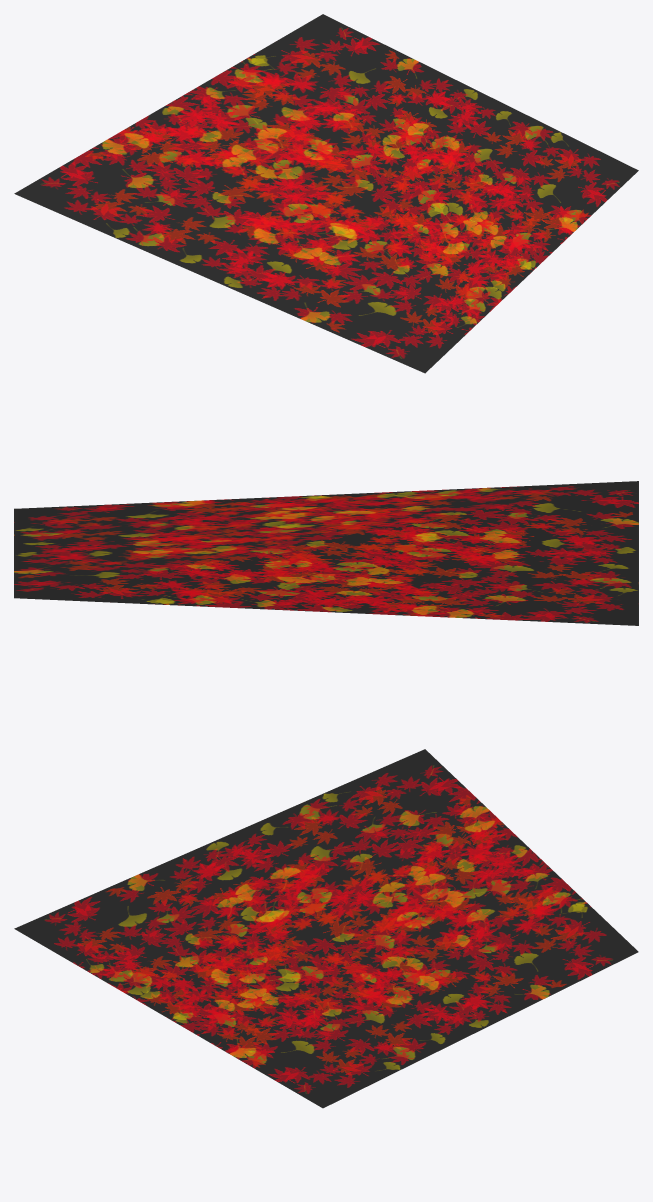
Rendered from OBJ_CourseAki_CurveFloor_3_33.fbx.
3 renders of one model, top to bottom at view 1: azimuth 30°, elevation 25°; view 2: azimuth 150°, elevation 25°; view 3: azimuth 270°, elevation 25°, orthographic. The views are drawn at different scales.
Parts seen in each view (by area): view 1: polySurface242; view 2: polySurface242; view 3: polySurface242.
Boxes of the visible parts, left/top/right/bottom form: polySurface242: left=14, top=14, right=638, bottom=373; polySurface242: left=14, top=481, right=638, bottom=625; polySurface242: left=14, top=749, right=638, bottom=1108.
Bounding box in the file's own units: 7.56 × 2 × 7.13.
1 material, 1 textured.
